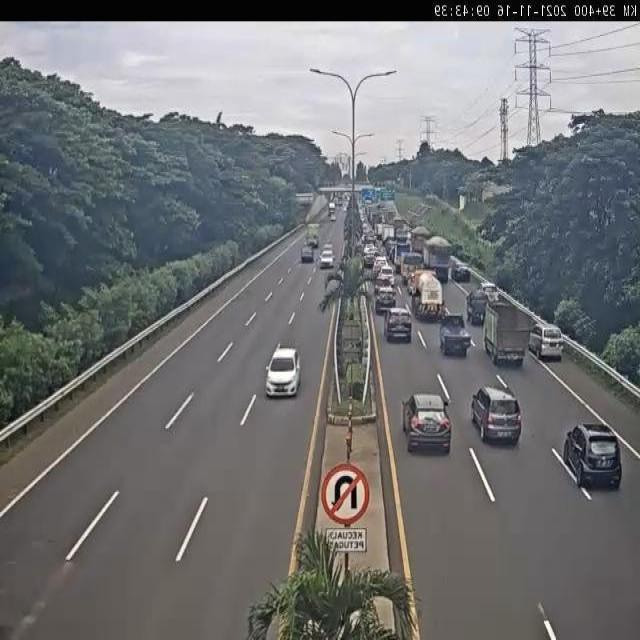Car: (564, 421, 622, 490), (402, 393, 452, 454), (472, 385, 522, 446), (266, 348, 300, 399), (530, 321, 564, 361), (384, 307, 412, 342), (374, 285, 396, 315), (477, 281, 500, 304), (370, 256, 390, 276), (376, 264, 395, 283), (318, 249, 336, 269), (301, 245, 314, 264), (328, 212, 336, 222)
Truck: (483, 302, 532, 368), (412, 265, 446, 322), (422, 235, 452, 285), (439, 313, 471, 358), (448, 244, 472, 282), (466, 289, 488, 325), (400, 250, 423, 284), (411, 226, 432, 254), (394, 241, 411, 271), (393, 217, 410, 242), (306, 222, 320, 248), (382, 223, 395, 246), (374, 222, 385, 242), (385, 211, 397, 224), (328, 202, 336, 216)
